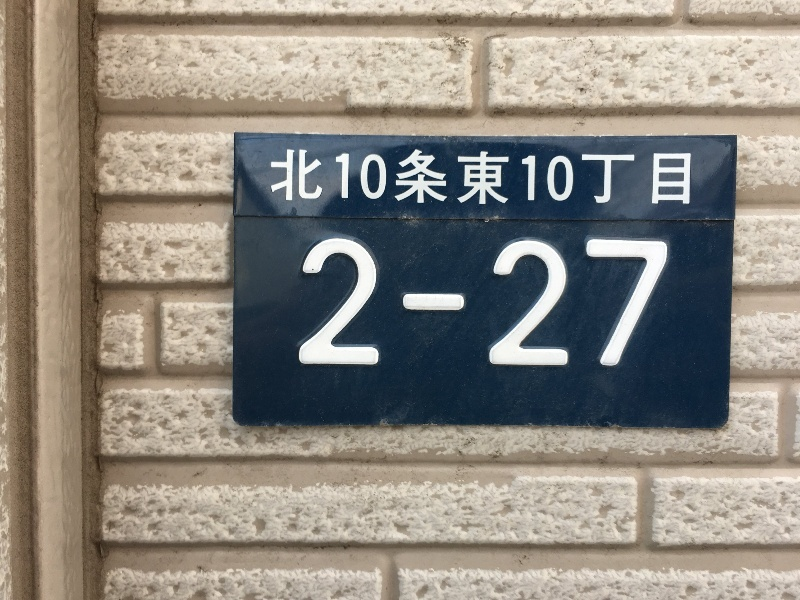text: (305, 236, 320, 372), (321, 236, 336, 372), (337, 236, 352, 372), (353, 236, 368, 372), (369, 236, 384, 372), (385, 236, 400, 372), (401, 236, 416, 372), (417, 236, 432, 372), (433, 236, 448, 372), (449, 236, 464, 372), (465, 236, 480, 372), (481, 236, 496, 372), (497, 236, 512, 372), (513, 236, 528, 372), (529, 236, 544, 372), (545, 236, 560, 372), (561, 236, 576, 372), (577, 236, 592, 372), (593, 236, 608, 372), (609, 236, 624, 372), (625, 236, 640, 372), (641, 236, 656, 372), (657, 236, 672, 372), (673, 236, 680, 372), (273, 147, 288, 209), (289, 147, 304, 209), (305, 147, 320, 209), (321, 147, 336, 209), (337, 147, 352, 209), (353, 147, 368, 209), (369, 147, 384, 209), (385, 147, 400, 209), (401, 147, 416, 209), (417, 147, 432, 209), (433, 147, 448, 209), (449, 147, 464, 209), (465, 147, 480, 209), (481, 147, 496, 209), (497, 147, 512, 209), (513, 147, 528, 209), (529, 147, 544, 209), (545, 147, 560, 209), (561, 147, 576, 209), (577, 147, 592, 209), (593, 147, 608, 209), (609, 147, 624, 209), (625, 147, 640, 209), (641, 147, 656, 209), (657, 147, 672, 209), (673, 147, 688, 209), (268, 147, 272, 209), (689, 147, 693, 209), (303, 236, 304, 372)
